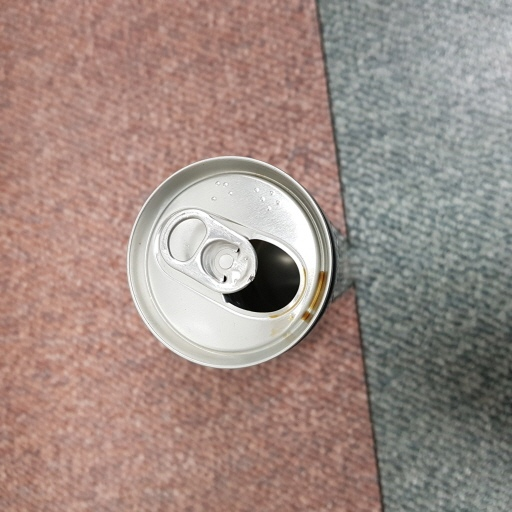Metal_0: (121, 155, 355, 377)
